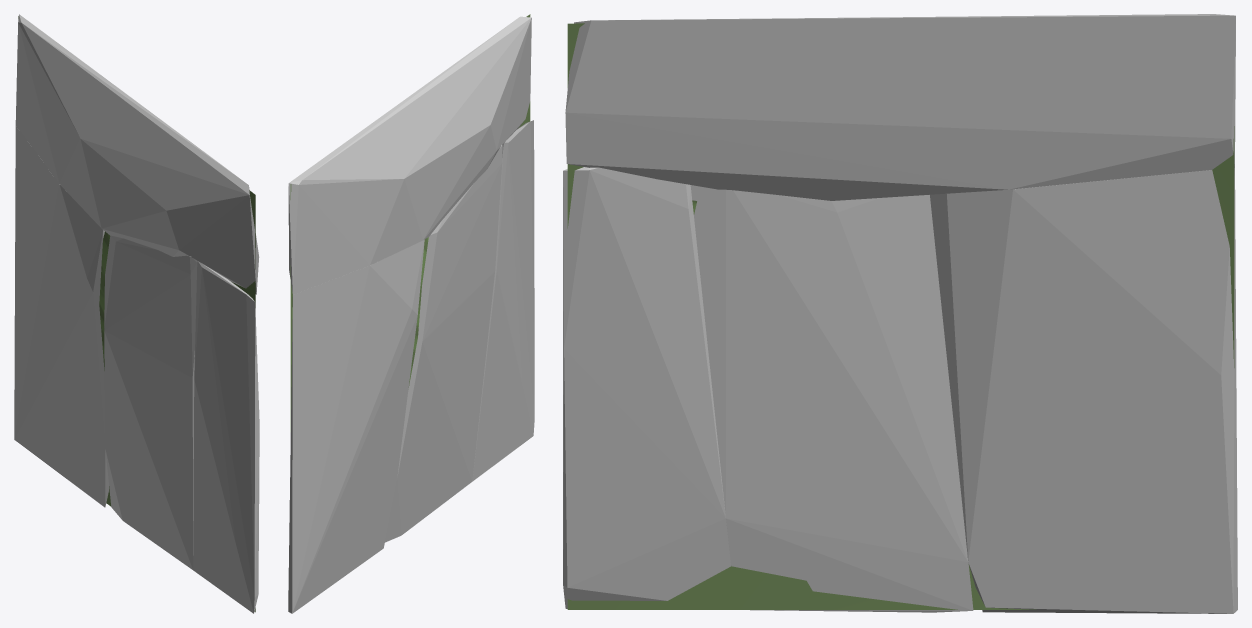
Rendered from SM_Env_Leaves_Clump_03.fbx.
The picture shows the model from 3 angles, left to right: view 1: azimuth 30°, elevation 25°; view 2: azimuth 150°, elevation 25°; view 3: azimuth 270°, elevation 25°; orthographic projection. The views are drawn at different scales.
Visible parts, largest first — view 1: SM_Env_Leaves_Clump_03_ConvexHulls, SM_Env_Leaves_Clump_03; view 2: SM_Env_Leaves_Clump_03_ConvexHulls, SM_Env_Leaves_Clump_03; view 3: SM_Env_Leaves_Clump_03_ConvexHulls, SM_Env_Leaves_Clump_03.
Part boxes in pixels (bbox=[...]): SM_Env_Leaves_Clump_03_ConvexHulls: bbox=[14, 14, 259, 613]; SM_Env_Leaves_Clump_03: bbox=[18, 16, 255, 612]; SM_Env_Leaves_Clump_03_ConvexHulls: bbox=[288, 16, 534, 613]; SM_Env_Leaves_Clump_03: bbox=[290, 14, 530, 431]; SM_Env_Leaves_Clump_03_ConvexHulls: bbox=[563, 14, 1237, 613]; SM_Env_Leaves_Clump_03: bbox=[567, 23, 1234, 609].
Size of the model in its own units: 10.72 by 157 by 153.
Materials: 2 (1 with a texture image).
